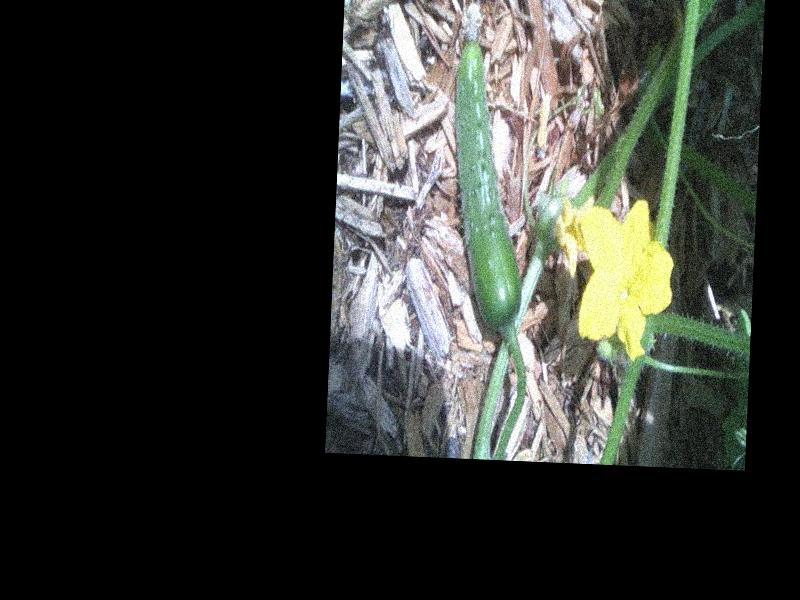Cucumber: (442, 8, 533, 335)
